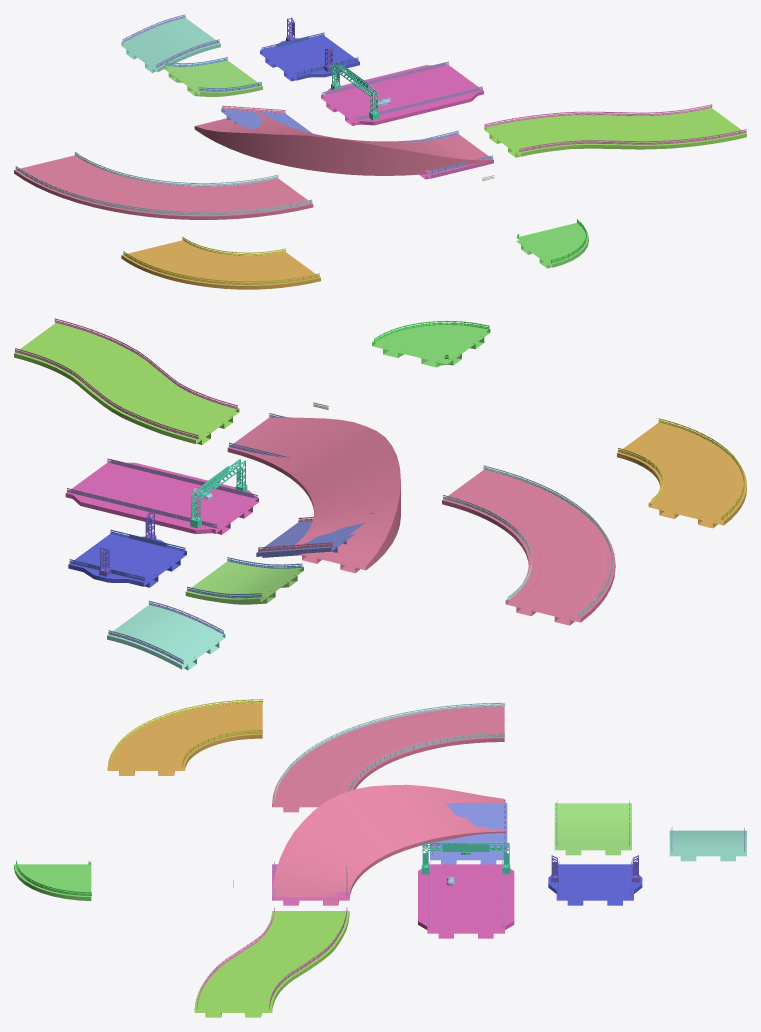
Rendered from try_this.fbx.
3 views of the same model, one above another, from view 1: azimuth 30°, elevation 25°; view 2: azimuth 150°, elevation 25°; view 3: azimuth 270°, elevation 25° (orthographic). The views are drawn at different scales.
Parts seen in each view (by area): view 1: RoadSmallTurnBig, RoadSmallTurnBig.001, RoadSiekainRL, RoadSmallTurnMid, RoadFinnhisline, RoadRecht.003, RoadCheckpoint, RoadRecht.001, RailingSmallTurnBig, RoadSmallTurnSmall, RailingSiekainRL, RailingSmallTurnMid (+7 smaller); view 2: RoadSmallTurnBig.001, RoadSmallTurnBig, RoadSiekainRL, RoadSmallTurnMid, RoadFinnhisline, RoadRecht.003, RoadCheckpoint, RoadSmallTurnSmall, RoadRecht.001, RailingSiekainRL, RoadRecht.002, RailingSmallTurnBig (+7 smaller); view 3: RoadSmallTurnBig.001, RoadSmallTurnBig, RoadSiekainRL, RoadFinnhisline, RoadSmallTurnMid, RoadRecht.001, RoadCheckpoint, RoadRecht.002, RoadRecht.003, RoadSmallTurnSmall, RailingSmallTurnBig, RailingFinnhislineBoard (+3 smaller).
Boxes of the visible parts, box(x1,y1,x2,y2) form: RoadSmallTurnBig: box(14, 155, 313, 219); RoadSmallTurnBig.001: box(194, 110, 493, 175); RoadSiekainRL: box(484, 108, 746, 157); RoadSmallTurnMid: box(121, 240, 320, 289); RoadFinnhisline: box(321, 65, 483, 125); RoadRecht.003: box(121, 18, 220, 73); RoadCheckpoint: box(260, 36, 359, 81); RoadRecht.001: box(163, 60, 262, 96); RailingSmallTurnBig: box(15, 152, 312, 215); RoadSmallTurnSmall: box(516, 223, 588, 268); RailingSiekainRL: box(484, 104, 746, 152); RailingSmallTurnMid: box(123, 236, 319, 285); RoadSmallTurnBig.001: box(227, 416, 400, 573); RoadSmallTurnBig: box(442, 469, 615, 625); RoadSiekainRL: box(14, 323, 239, 444); RoadSmallTurnMid: box(617, 422, 746, 528); RoadFinnhisline: box(65, 462, 258, 534); RoadRecht.003: box(107, 605, 225, 670); RoadCheckpoint: box(68, 533, 186, 587); RoadSmallTurnSmall: box(372, 325, 490, 367); RoadRecht.001: box(185, 561, 303, 604); RailingSiekainRL: box(15, 318, 237, 439); RoadRecht.002: box(256, 521, 365, 557); RailingSmallTurnBig: box(443, 465, 612, 617); RoadSmallTurnBig.001: box(272, 784, 504, 905); RoadSmallTurnBig: box(272, 705, 504, 812); RoadSiekainRL: box(194, 911, 349, 1017); RoadFinnhisline: box(418, 864, 514, 938); RoadSmallTurnMid: box(107, 703, 262, 775); RoadRecht.001: box(554, 803, 631, 855); RoadCheckpoint: box(548, 864, 642, 905); RoadRecht.002: box(430, 803, 507, 864); RoadRecht.003: box(669, 830, 746, 861); RoadSmallTurnSmall: box(14, 864, 91, 900); RailingSmallTurnBig: box(274, 702, 505, 803); RailingFinnhislineBoard: box(421, 842, 510, 874).
Size of the model in its own units: 18795 by 1488 by 18923.
